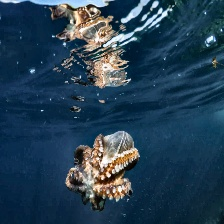octopus: (65, 131, 140, 211)
